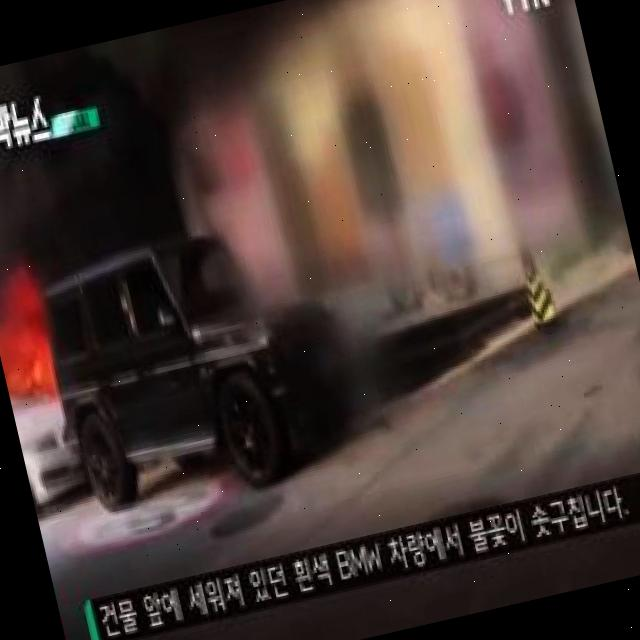fire: (0, 292, 61, 406)
